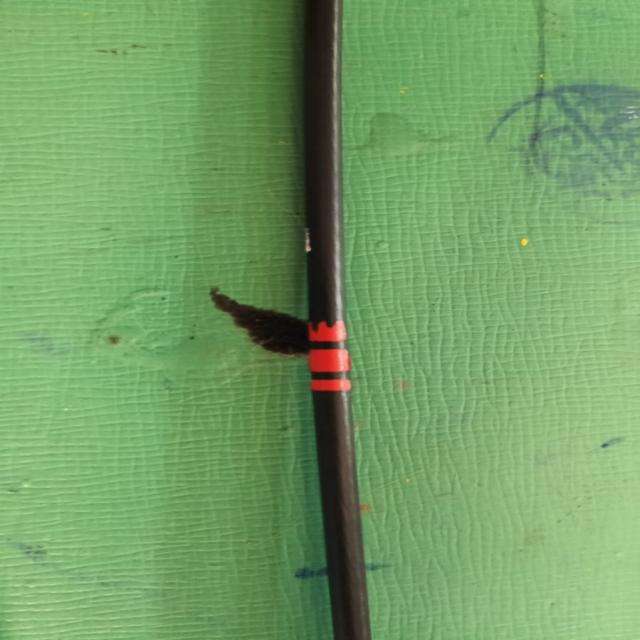red: (300, 319, 360, 394)
